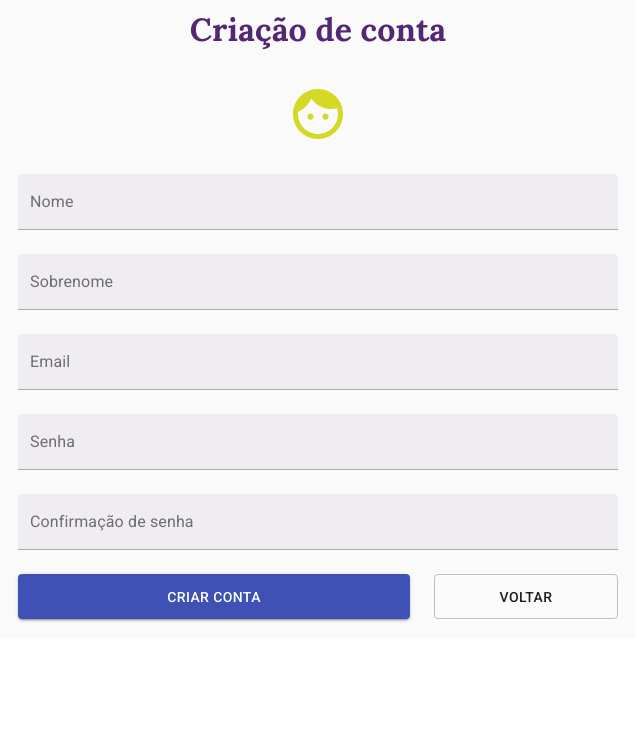
Test: should show a error label when click in 'Criar Conta' button and password and confirmation password don't match
Type "renatop123" into the password field with id "register-user-password".
click(318, 442); type("renatop123")  # box [18, 414, 618, 470]
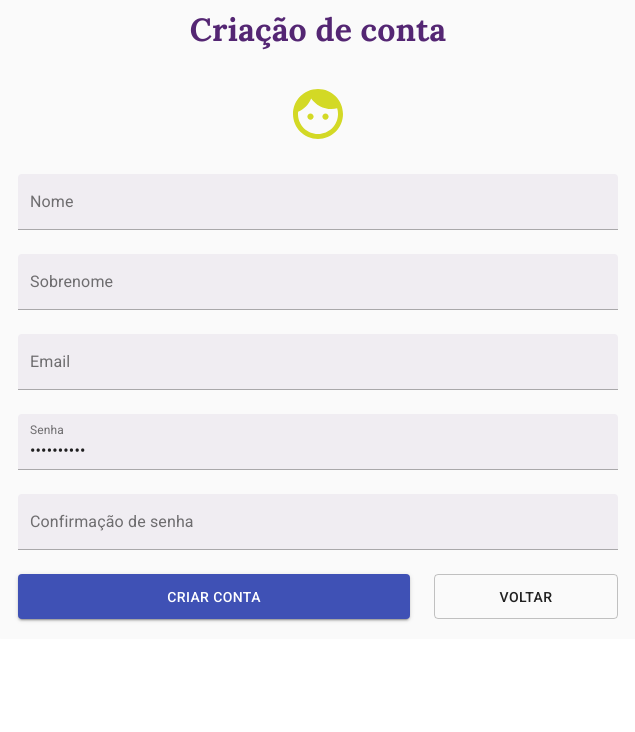
Type "renatop" into the password field with id "register-user-confirmation-password".
click(318, 522); type("renatop")  # box [18, 494, 618, 550]
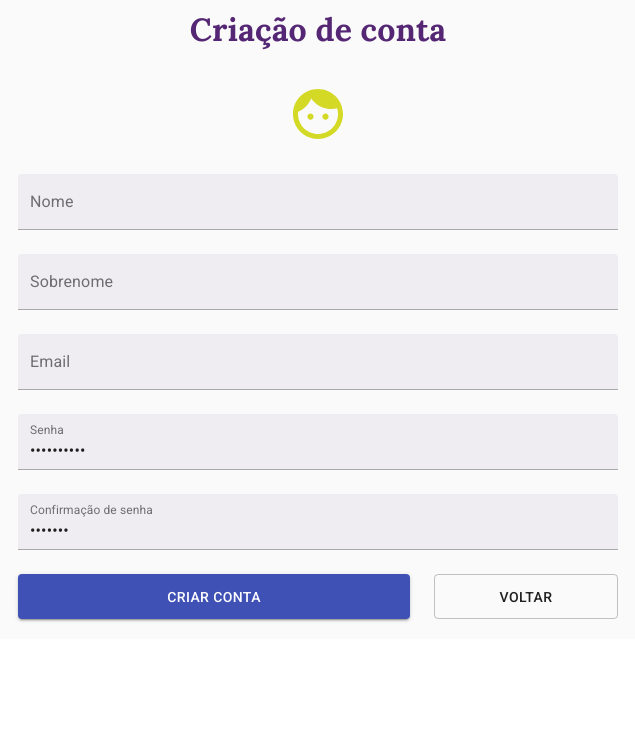
Click the button with id "register-button".
click(214, 597)  # box [18, 574, 410, 619]
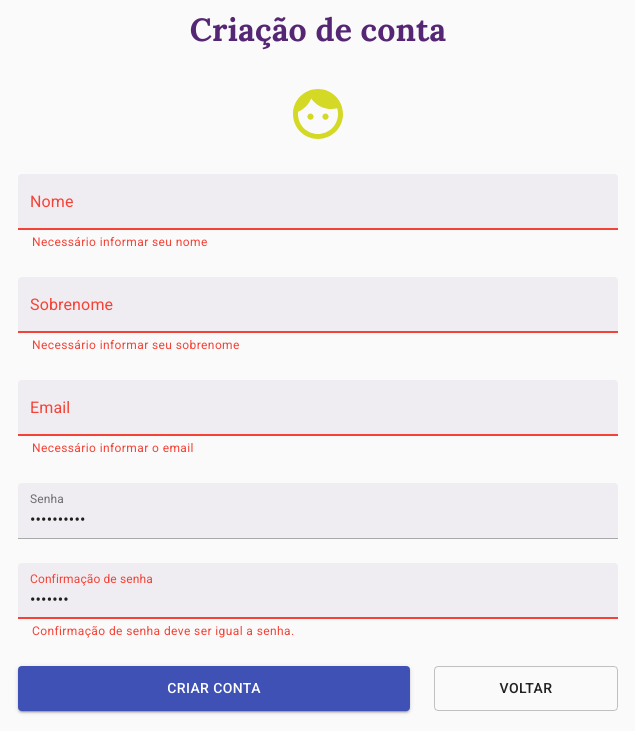
Result: the text "Confirmação de senha deve ser igual a senha." is shown at [32, 624, 294, 638]
